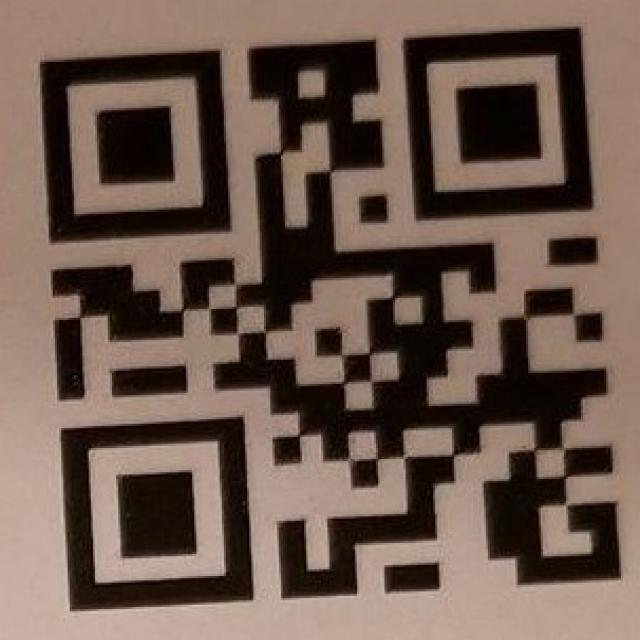QR_CODE: (37, 26, 623, 613)
